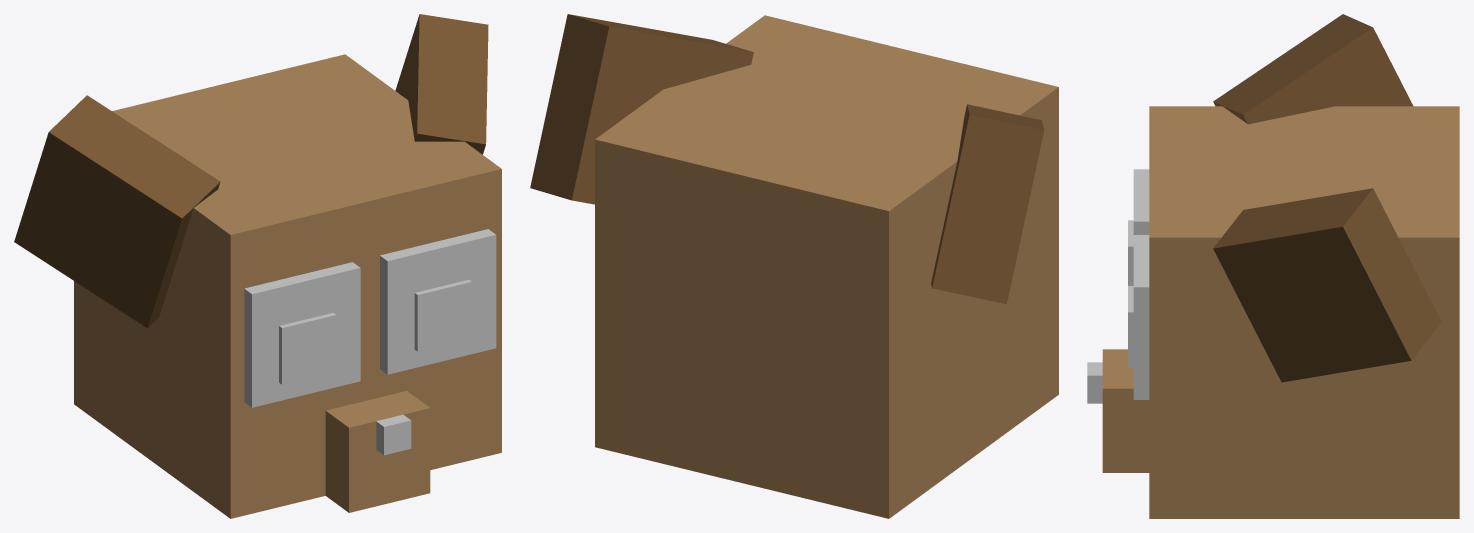
File: sugar_glider_same_part_names.obj
3 renders of one model, left to right at view 1: azimuth 30°, elevation 25°; view 2: azimuth 150°, elevation 25°; view 3: azimuth 270°, elevation 25°, orthographic. The views are drawn at different scales.
Visible parts, largest first — view 1: object; view 2: object; view 3: object.
Part boxes in pixels (<box>): object: <box>14,14,501,518</box>; object: <box>530,14,1058,518</box>; object: <box>1087,14,1459,518</box>.
Bounding box in the file's own units: 0.9538 × 0.7225 × 0.7059.
